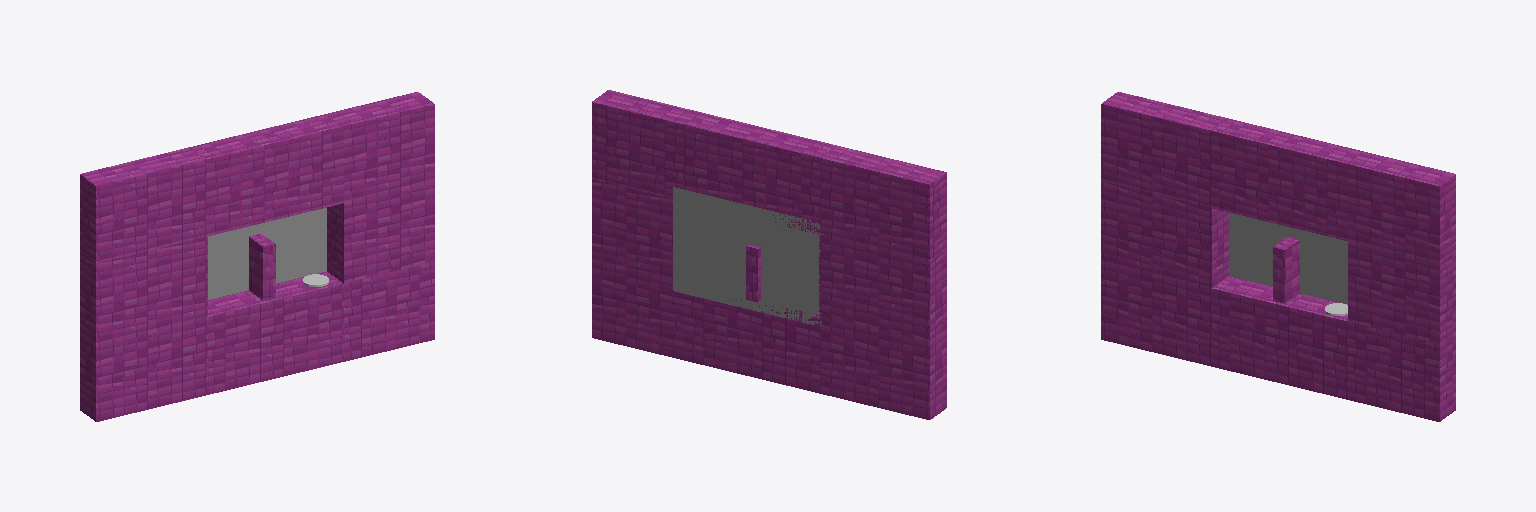
3 renders of one model, left to right at view 1: azimuth 30°, elevation 25°; view 2: azimuth 150°, elevation 25°; view 3: azimuth 330°, elevation 25°, orthographic.
Visible parts, largest first — view 1: Cube, Plane, Cube.001; view 2: Cube, Plane, Cube.001; view 3: Cube, Plane, Cube.001.
Part boxes in pixels (x1,y1,x2,y2): Cube: (80, 92, 434, 421); Plane: (208, 208, 326, 299); Cube.001: (249, 234, 275, 300); Cube: (592, 90, 946, 419); Plane: (673, 187, 823, 325); Cube.001: (746, 244, 760, 302); Cube: (1101, 92, 1455, 421); Plane: (1229, 212, 1347, 304); Cube.001: (1273, 237, 1299, 303).
Size of the model in its own units: 34.76 by 23.16 by 3.43.
Materials: 3 (1 with a texture image).